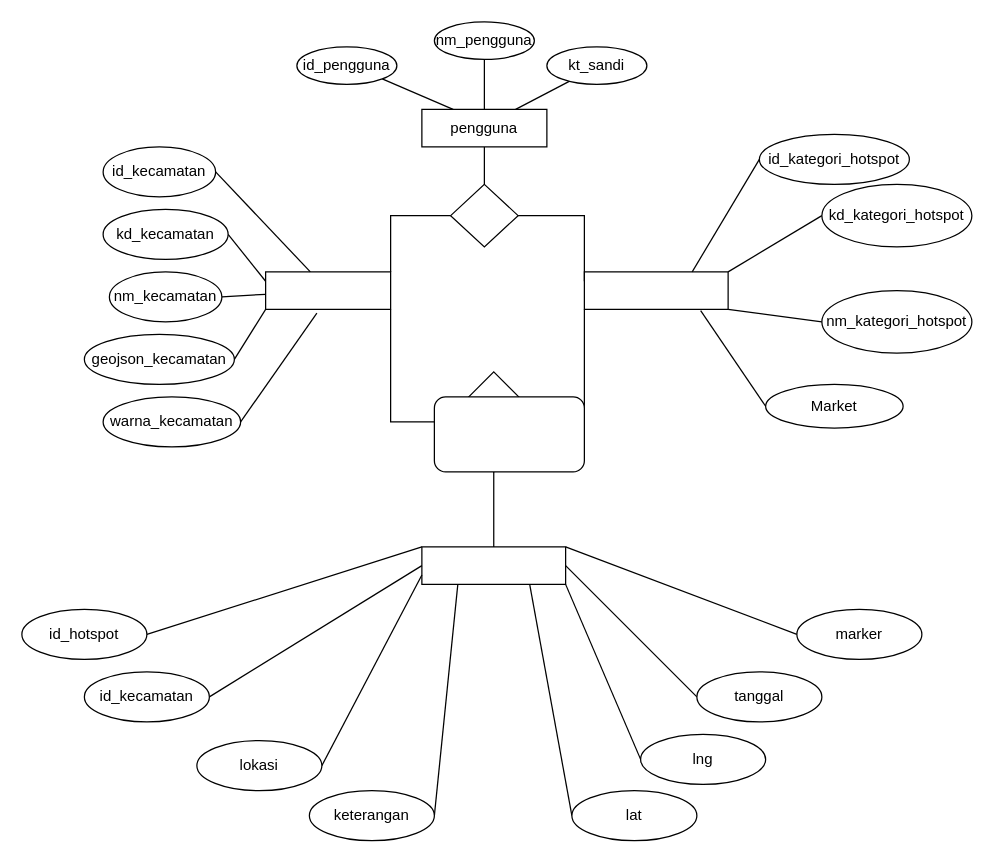
This 994x863 diagram has some shape labels left out. Here are the shapes that lost their labels. From the top down, the centre of each, then its label:
At pixel 483 215: "login".
At pixel 327 290: "m_kecamatan".
At pixel 655 290: "m_kategori_hotspot".
At pixel 493 565: "t_hotspot".
